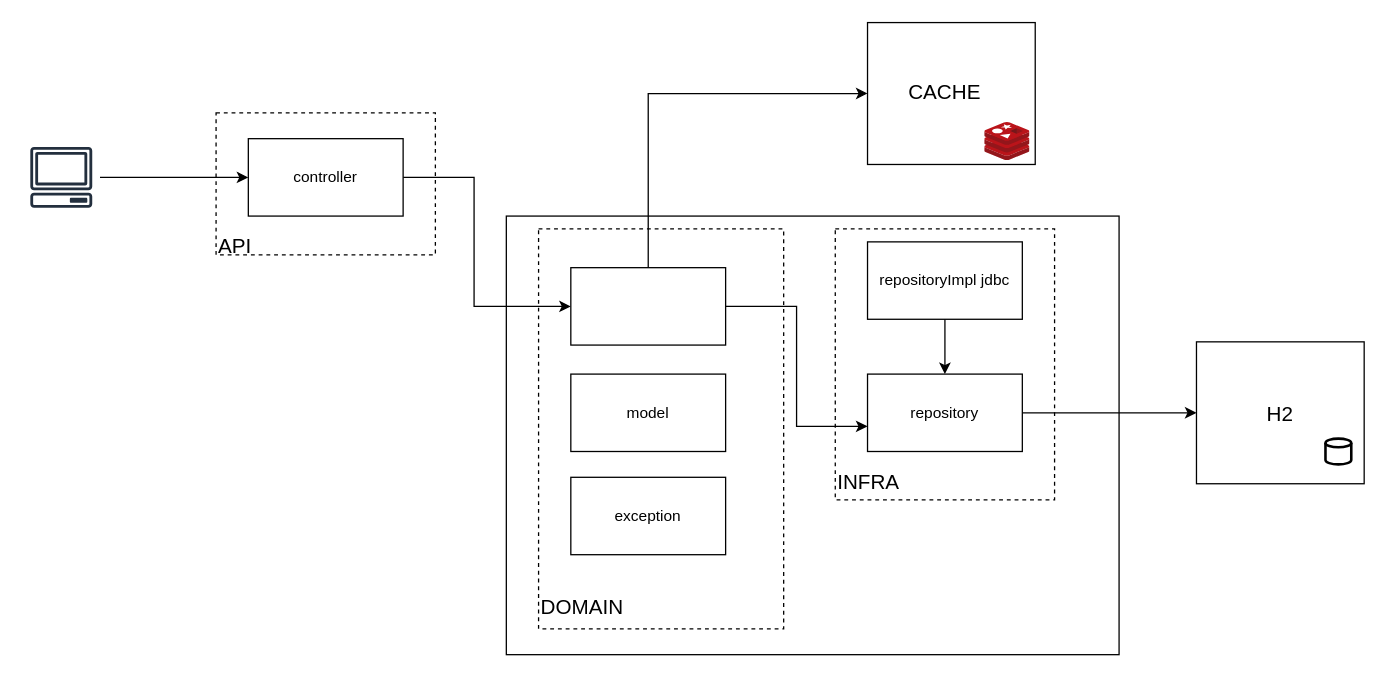
Some shapes in this 1387 by 677 pixel diagram are drawn without their labels. Each missing label, with the centre of its shape:
Client: (60,176)
service: (648,305)
